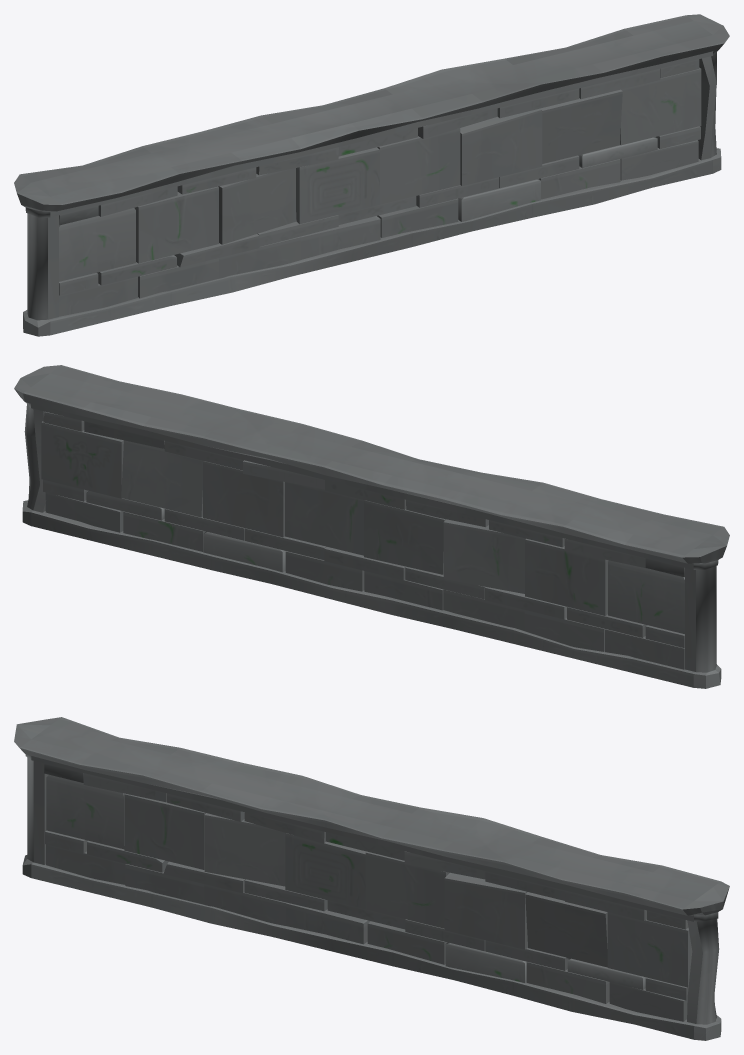
The model's file is Wall.FBX.
The picture shows the model from 3 angles, top to bottom: view 1: azimuth 30°, elevation 25°; view 2: azimuth 150°, elevation 25°; view 3: azimuth 330°, elevation 25°; orthographic projection.
Parts seen in each view (by area): view 1: Box022; view 2: Box022; view 3: Box022.
Part boxes in pixels (box(x1,y1,x2,y2)): Box022: box(14, 14, 729, 336); Box022: box(14, 365, 729, 688); Box022: box(14, 717, 729, 1040).
Bounding box in the file's own units: 10.66 × 2.04 × 1.1.
